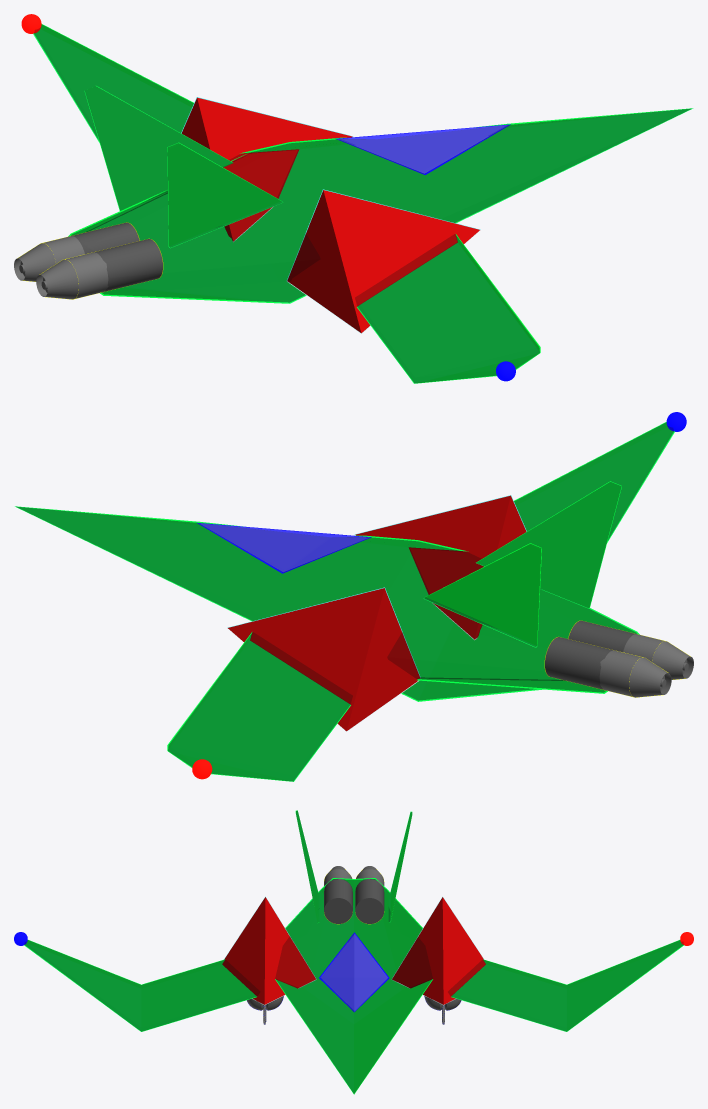
File: testship.glb
3 views of the same model, one above another, from view 1: azimuth 30°, elevation 25°; view 2: azimuth 150°, elevation 25°; view 3: azimuth 270°, elevation 25° (orthographic). The views are drawn at different scales.
Parts seen in each view (by area): view 1: Cone, Cube, Cone.001, Cube.001, Cylinder, Cone.002; view 2: Cone, Cube, Cone.001, Cube.001, Cylinder, Cone.002; view 3: Cone, Cube, Cone.001, Cylinder, Cone.002, Cube.001, Cube.010.
Part boxes in pixels (x1,y1,x2,y2): Cone: [68, 108, 693, 303]; Cube: [33, 24, 540, 383]; Cone.001: [181, 97, 480, 333]; Cube.001: [84, 86, 282, 248]; Cylinder: [14, 222, 163, 299]; Cone.002: [336, 124, 510, 174]; Cone: [15, 506, 639, 701]; Cube: [167, 422, 674, 781]; Cone.001: [227, 495, 526, 731]; Cube.001: [423, 481, 621, 647]; Cylinder: [544, 620, 693, 697]; Cone.002: [197, 522, 371, 573]; Cone: [275, 878, 432, 1094]; Cube: [24, 940, 684, 1031]; Cone.001: [222, 896, 485, 1005]; Cylinder: [324, 866, 384, 924]; Cone.002: [319, 932, 389, 1012]; Cube.001: [295, 810, 412, 922]; Cube.010: [247, 996, 461, 1010].
Bounding box in the file's own units: 6.68 × 2.19 × 8.44.
